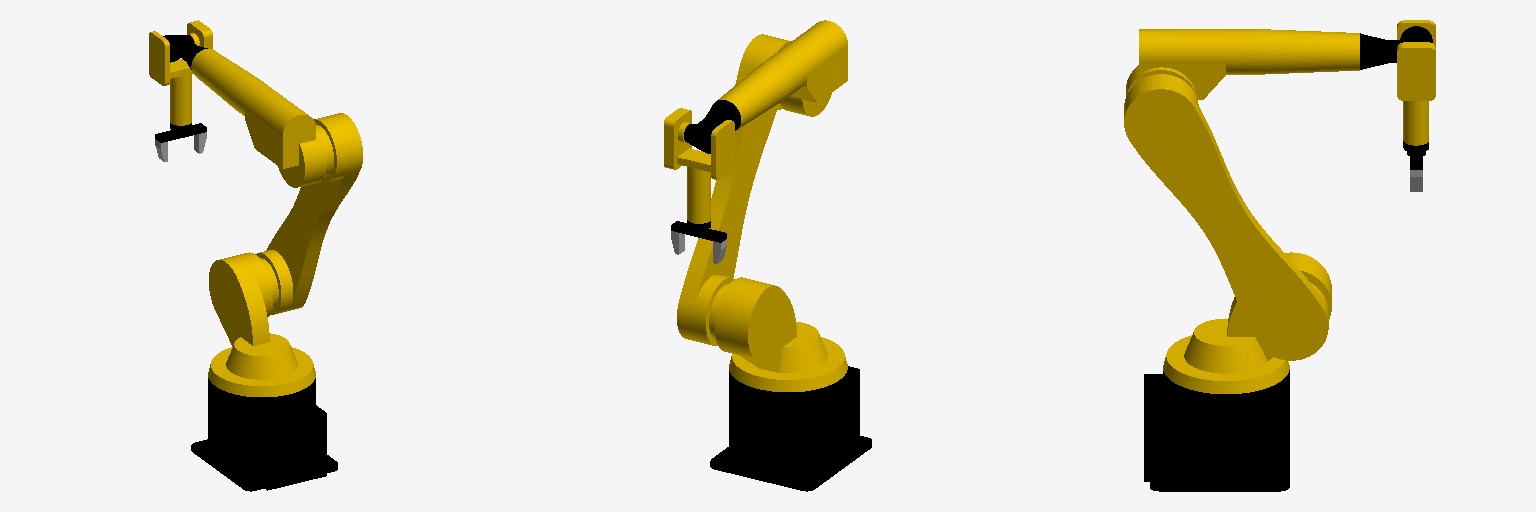
The robot description file, URDF, robot "majager":
<?xml version="1.0" ?>
<!-- =================================================================================== -->
<!-- |    This document was autogenerated by xacro from majager.xacro                  | -->
<!-- |    EDITING THIS FILE BY HAND IS NOT RECOMMENDED                                 | -->
<!-- =================================================================================== -->
<robot name="majager">
  <material name="silver">
    <color rgba="0.700 0.700 0.700 1.000"/>
  </material>
  <material name="Yellow">
    <color rgba="0.93 0.76 0.0 1.0"/>
  </material>
  <material name="Grey">
    <color rgba="0.7 0.7 0.7 1.0"/>
  </material>
  <material name="Black">
    <color rgba="0.0 0.0 0.0 1.0"/>
  </material>
  <gazebo>
    <plugin filename="libgazebo_ros_control.so" name="gazebo_ros_control">
      <robotSimType>gazebo_ros_control/DefaultRobotHWSim</robotSimType>
      <robotNamespace>/majager</robotNamespace>
      <robotParam>robot_description</robotParam>
      <legacyModeNS>true</legacyModeNS>
    </plugin>
  </gazebo>
  <gazebo reference="base_link">
    <material>Gazebo/Silver</material>
    <mu1>0.2</mu1>
    <mu2>0.2</mu2>
    <selfCollide>true</selfCollide>
    <gravity>true</gravity>
  </gazebo>
  <gazebo reference="Link1_1">
    <material>Gazebo/Silver</material>
    <mu1>0.2</mu1>
    <mu2>0.2</mu2>
    <selfCollide>true</selfCollide>
  </gazebo>
  <gazebo reference="Link2_1">
    <material>Gazebo/Silver</material>
    <mu1>0.2</mu1>
    <mu2>0.2</mu2>
    <selfCollide>true</selfCollide>
  </gazebo>
  <gazebo reference="Link3_1">
    <material>Gazebo/Silver</material>
    <mu1>0.2</mu1>
    <mu2>0.2</mu2>
    <selfCollide>true</selfCollide>
  </gazebo>
  <gazebo reference="Link4_1">
    <material>Gazebo/Silver</material>
    <mu1>0.2</mu1>
    <mu2>0.2</mu2>
    <selfCollide>true</selfCollide>
  </gazebo>
  <gazebo reference="Link5_1">
    <material>Gazebo/Silver</material>
    <mu1>0.2</mu1>
    <mu2>0.2</mu2>
    <selfCollide>true</selfCollide>
  </gazebo>
  <gazebo reference="Link6_1">
    <material>Gazebo/Silver</material>
    <mu1>0.2</mu1>
    <mu2>0.2</mu2>
    <selfCollide>true</selfCollide>
  </gazebo>
  <gazebo reference="Base_Gripper_1">
    <material>Gazebo/Silver</material>
    <mu1>0.2</mu1>
    <mu2>0.2</mu2>
    <selfCollide>true</selfCollide>
  </gazebo>
  <gazebo reference="Gripper_Left_1">
    <material>Gazebo/White</material>
    <mu1>1.0</mu1>
    <mu2>1.0</mu2>
    <kp>1000000.0</kp>
    <kd>1.0</kd>
    <minDepth>0.001</minDepth>
    <!--maxVel>0.1</maxVel>
  <fdir1>1 0 0</fdir1-->
  </gazebo>
  <gazebo reference="Gripper_Right_1">
    <material>Gazebo/White</material>
    <mu1>1.0</mu1>
    <mu2>1.0</mu2>
    <kp>1000000.0</kp>
    <kd>1.0</kd>
    <minDepth>0.001</minDepth>
    <!--maxVel>0.1</maxVel>
  <fdir1>1 0 0</fdir1-->
  </gazebo>
  <!-- World frame (for Gazebo) -->
  <link name="world"/>
  <!-- Arm fixed to world frame  -->
  <joint name="world__base_link" type="fixed">
    <parent link="world"/>
    <child link="base_link"/>
    <origin rpy="0 0 0" xyz="0 0 0"/>
  </joint>
  <link name="base_link">
    <inertial>
      <mass value="351.2471728207797"/>
      <origin rpy="0 0 0" xyz="-7.089415568373423e-17 -0.022734689380917134 0.15849931820776944"/>
      <inertia ixx="7.803246" ixy="0" ixz="0" iyy="6.469342" iyz="0" izz="7.933037"/>
    </inertial>
    <collision>
      <origin rpy="0 0 0" xyz="0 0 0"/>
      <geometry>
        <mesh filename="package://majager_description/meshes/base_link.stl" scale="0.001 0.001 0.001"/>
      </geometry>
    </collision>
    <visual>
      <origin rpy="0 0 0" xyz="0 0 0"/>
      <geometry>
        <mesh filename="package://majager_description/meshes/base_link.stl" scale="0.001 0.001 0.001"/>
      </geometry>
      <material name="Black"/>
    </visual>
  </link>
  <joint name="Base_to_Link1" type="continuous">
    <axis xyz="-0.0 -0.0 1.0"/>
    <limit effort="100" velocity="100"/>
    <origin rpy="0 0 0" xyz="0.0 0.0 0.33"/>
    <parent link="base_link"/>
    <child link="Link1_1"/>
  </joint>
  <transmission name="Base_to_Link1_tran">
    <type>transmission_interface/SimpleTransmission</type>
    <joint name="Base_to_Link1">
      <hardwareInterface>hardware_interface/PositionJointInterface</hardwareInterface>
    </joint>
    <actuator name="Base_to_Link1_actr">
      <hardwareInterface>hardware_interface/PositionJointInterface</hardwareInterface>
      <mechanicalReduction>1</mechanicalReduction>
    </actuator>
  </transmission>
  <link name="Link1_1">
    <inertial>
      <mass value="5.52547968640361"/>
      <origin rpy="0 0 0" xyz="0.010990144273109063 0.0882068365110577 0.13577480191631508"/>
      <inertia ixx="3.160703" ixy="-0.14808" ixz="-0.151302" iyy="1.945221" iyz="-1.098862" izz="2.215367"/>
    </inertial>
    <collision>
      <origin rpy="0 0 0" xyz="0.0 0.0 -0.33"/>
      <geometry>
        <mesh filename="package://majager_description/meshes/Link1_1.stl" scale="0.001 0.001 0.001"/>
      </geometry>
    </collision>
    <visual>
      <origin rpy="0 0 0" xyz="0.0 0.0 -0.33"/>
      <geometry>
        <mesh filename="package://majager_description/meshes/Link1_1.stl" scale="0.001 0.001 0.001"/>
      </geometry>
      <material name="Yellow"/>
    </visual>
  </link>
  <joint name="Link1_to_Link2" type="revolute">
    <axis xyz="1.0 0.0 0.0"/>
    <limit effort="100" lower="-3.3161255" upper="1.3963" velocity="100"/>
    <origin rpy="0.5235987756 0 0" xyz="0.09 0.2 0.25"/>
    <parent link="Link1_1"/>
    <child link="Link2_1"/>
  </joint>
  <transmission name="Link1_to_Link2_tran">
    <type>transmission_interface/SimpleTransmission</type>
    <joint name="Link1_to_Link2">
      <hardwareInterface>hardware_interface/PositionJointInterface</hardwareInterface>
    </joint>
    <actuator name="Link1_to_Link2_actr">
      <hardwareInterface>hardware_interface/PositionJointInterface</hardwareInterface>
      <mechanicalReduction>1</mechanicalReduction>
    </actuator>
  </transmission>
  <link name="Link2_1">
    <inertial>
      <mass value="5.82400607636134"/>
      <origin rpy="0 0 0" xyz="0.0953874109671839 -1.1102230246251565e-14 0.3999420840487563"/>
      <inertia ixx="16.907224" ixy="0" ixz="0" iyy="16.692266" iyz="0" izz="0.659521"/>
    </inertial>
    <collision>
      <origin rpy="0 0 0" xyz="-0.09 -0.2 -0.58"/>
      <geometry>
        <mesh filename="package://majager_description/meshes/Link2_1.stl" scale="0.001 0.001 0.001"/>
      </geometry>
    </collision>
    <visual>
      <origin rpy="0 0 0" xyz="-0.09 -0.2 -0.58"/>
      <geometry>
        <mesh filename="package://majager_description/meshes/Link2_1.stl" scale="0.001 0.001 0.001"/>
      </geometry>
      <material name="Yellow"/>
    </visual>
  </link>
  <joint name="Link2_to_Link3" type="revolute">
    <axis xyz="1.0 -0.0 0.0"/>
    <limit effort="100" lower="-0.7" upper="4.2" velocity="100"/>
    <origin rpy="-0.5235987756 0 0" xyz="0.0 0.0 0.8"/>
    <parent link="Link2_1"/>
    <child link="Link3_1"/>
  </joint>
  <transmission name="Link2_to_Link3_tran">
    <type>transmission_interface/SimpleTransmission</type>
    <joint name="Link2_to_Link3">
      <hardwareInterface>hardware_interface/PositionJointInterface</hardwareInterface>
    </joint>
    <actuator name="Link2_to_Link3_actr">
      <hardwareInterface>hardware_interface/PositionJointInterface</hardwareInterface>
      <mechanicalReduction>1</mechanicalReduction>
    </actuator>
  </transmission>
  <link name="Link3_1">
    <inertial>
      <mass value="2.14016041688751"/>
      <origin rpy="0 0 0" xyz="-0.08225410153755812 0.09831042517527713 0.08665205846011848"/>
      <inertia ixx="4.813544" ixy="0.160871" ixz="0.096164" iyy="0.718651" iyz="-0.721581" izz="4.447232"/>
    </inertial>
    <collision>
      <origin rpy="0 0 0" xyz="-0.09 -0.2 -1.38"/>
      <geometry>
        <mesh filename="package://majager_description/meshes/Link3_1.stl" scale="0.001 0.001 0.001"/>
      </geometry>
    </collision>
    <visual>
      <origin rpy="0 0 0" xyz="-0.09 -0.2 -1.38"/>
      <geometry>
        <mesh filename="package://majager_description/meshes/Link3_1.stl" scale="0.001 0.001 0.001"/>
      </geometry>
      <material name="Yellow"/>
    </visual>
  </link>
  <joint name="Link3_to_Link4" type="continuous">
    <axis xyz="0.0 1.0 0.0"/>
    <limit effort="100" velocity="100"/>
    <origin rpy="0 0 0" xyz="-0.09 0.35 0.13"/>
    <parent link="Link3_1"/>
    <child link="Link4_1"/>
  </joint>
  <transmission name="Link3_to_Link4_tran">
    <type>transmission_interface/SimpleTransmission</type>
    <joint name="Link3_to_Link4">
      <hardwareInterface>hardware_interface/PositionJointInterface</hardwareInterface>
    </joint>
    <actuator name="Link3_to_Link4_actr">
      <hardwareInterface>hardware_interface/PositionJointInterface</hardwareInterface>
      <mechanicalReduction>1</mechanicalReduction>
    </actuator>
  </transmission>
  <link name="Link4_1">
    <inertial>
      <mass value="2.036896395207224"/>
      <origin rpy="0 0 0" xyz="-0.01381923652259904 0.1126422845962809 1.5576813499063036e-06"/>
      <inertia ixx="0.061572" ixy="0.010471" ixz="-0.0" iyy="0.018205" iyz="-1e-06" izz="0.067201"/>
    </inertial>
    <collision>
      <origin rpy="0 0 0" xyz="-0.0 -0.55 -1.51"/>
      <geometry>
        <mesh filename="package://majager_description/meshes/Link4_1.stl" scale="0.001 0.001 0.001"/>
      </geometry>
    </collision>
    <visual>
      <origin rpy="0 0 0" xyz="-0.0 -0.55 -1.51"/>
      <geometry>
        <mesh filename="package://majager_description/meshes/Link4_1.stl" scale="0.001 0.001 0.001"/>
      </geometry>
      <material name="Black"/>
    </visual>
  </link>
  <joint name="Link4_to_Link5" type="revolute">
    <axis xyz="1.0 -0.0 0.0"/>
    <limit effort="100" lower="-0.87266" upper="4.01426" velocity="100"/>
    <origin rpy="0 0 0" xyz="-0.085 0.415 0.0"/>
    <parent link="Link4_1"/>
    <child link="Link5_1"/>
  </joint>
  <transmission name="Link4_to_Link5_tran">
    <type>transmission_interface/SimpleTransmission</type>
    <joint name="Link4_to_Link5">
      <hardwareInterface>hardware_interface/PositionJointInterface</hardwareInterface>
    </joint>
    <actuator name="Link4_to_Link5_actr">
      <hardwareInterface>hardware_interface/PositionJointInterface</hardwareInterface>
      <mechanicalReduction>1</mechanicalReduction>
    </actuator>
  </transmission>
  <link name="Link5_1">
    <inertial>
      <mass value="1.83303077561953"/>
      <origin rpy="0 0 0" xyz="-0.02715869025322588 -5.218048215738236e-15 -0.08759357763589937"/>
      <inertia ixx="0.167562" ixy="0" ixz="-0.016099" iyy="0.227483" iyz="0" izz="0.091889"/>
    </inertial>
    <collision>
      <origin rpy="0 0 0" xyz="0.085 -0.965 -1.51"/>
      <geometry>
        <mesh filename="package://majager_description/meshes/Link5_1.stl" scale="0.001 0.001 0.001"/>
      </geometry>
    </collision>
    <visual>
      <origin rpy="0 0 0" xyz="0.085 -0.965 -1.51"/>
      <geometry>
        <mesh filename="package://majager_description/meshes/Link5_1.stl" scale="0.001 0.001 0.001"/>
      </geometry>
      <material name="Yellow"/>
    </visual>
  </link>
  <joint name="Link5_to_Link6" type="prismatic">
    <axis xyz="0.0 -0.0 -1.0"/>
    <limit effort="100" lower="0.0" upper="0.3" velocity="100"/>
    <origin rpy="0 0 0" xyz="0.085 0.0 -0.25"/>
    <parent link="Link5_1"/>
    <child link="Link6_1"/>
  </joint>
  <transmission name="Link5_to_Link6_tran">
    <type>transmission_interface/SimpleTransmission</type>
    <joint name="Link5_to_Link6">
      <hardwareInterface>hardware_interface/PositionJointInterface</hardwareInterface>
    </joint>
    <actuator name="Link5_to_Link6_actr">
      <hardwareInterface>hardware_interface/PositionJointInterface</hardwareInterface>
      <mechanicalReduction>1</mechanicalReduction>
    </actuator>
  </transmission>
  <link name="Link6_1">
    <inertial>
      <mass value="1.9701696869512575"/>
      <origin rpy="0 0 0" xyz="-1.462357275260921e-16 -8.215650382226158e-15 -0.10789050337311945"/>
      <inertia ixx="0.009725" ixy="0" ixz="0.0" iyy="0.009725" iyz="0" izz="0.001313"/>
    </inertial>
    <collision>
      <origin rpy="0 0 0" xyz="0.0 -0.965 -1.26"/>
      <geometry>
        <mesh filename="package://majager_description/meshes/Link6_1.stl" scale="0.001 0.001 0.001"/>
      </geometry>
    </collision>
    <visual>
      <origin rpy="0 0 0" xyz="0.0 -0.965 -1.26"/>
      <geometry>
        <mesh filename="package://majager_description/meshes/Link6_1.stl" scale="0.001 0.001 0.001"/>
      </geometry>
      <material name="Black"/>
    </visual>
  </link>
  <joint name="Link6_to_Base_Gripper" type="continuous">
    <axis xyz="-0.0 -0.0 -1.0"/>
    <limit effort="100" velocity="100"/>
    <origin rpy="0 0 0" xyz="0.0 0.0 -0.03"/>
    <parent link="Link6_1"/>
    <child link="Base_Gripper_1"/>
  </joint>
  <transmission name="Link6_to_Base_Gripper_tran">
    <type>transmission_interface/SimpleTransmission</type>
    <joint name="Link6_to_Base_Gripper">
      <hardwareInterface>hardware_interface/PositionJointInterface</hardwareInterface>
    </joint>
    <actuator name="Link6_to_Base_Gripper_actr">
      <hardwareInterface>hardware_interface/PositionJointInterface</hardwareInterface>
      <mechanicalReduction>1</mechanicalReduction>
    </actuator>
  </transmission>
  <link name="Base_Gripper_1">
    <inertial>
      <mass value="1.1700579922254057"/>
      <origin rpy="0 0 0" xyz="-1.309810703716444e-16 -8.215650382226158e-15 -0.014382845951966372"/>
      <inertia ixx="0.000268" ixy="0" ixz="0" iyy="0.003233" iyz="0" izz="1"/>
    </inertial>
    <collision>
      <origin rpy="0 0 0" xyz="0.0 -0.965 -1.23"/>
      <geometry>
        <mesh filename="package://majager_description/meshes/Base_Gripper_1.stl" scale="0.001 0.001 0.001"/>
      </geometry>
    </collision>
    <visual>
      <origin rpy="0 0 0" xyz="0.0 -0.965 -1.23"/>
      <geometry>
        <mesh filename="package://majager_description/meshes/Base_Gripper_1.stl" scale="0.001 0.001 0.001"/>
      </geometry>
      <material name="Black"/>
    </visual>
  </link>

  <joint name="Base_Gripper_to_Gripper_Right" type="fixed">
      <origin rpy="0 0 0" xyz="-0.06 0.0 -0.0225"/>
      <parent link="Base_Gripper_1"/>
      <child link="Gripper_Right_1"/>
  </joint>

  <transmission name="Base_Gripper_to_Gripper_Right_tran">
      <type>transmission_interface/SimpleTransmission</type>
  </transmission>

  <link name="Gripper_Right_1">
    <inertial>
      <mass value="0.6554750004678966"/>
      <origin rpy="0 0 0" xyz="0.012095808747128123 -2.786659791809143e-14 -0.03856287422397031"/>
      <inertia ixx="0.00044" ixy="-0.0" ixz="3e-05" iyy="0.000397" iyz="-0.0" izz="0.000125"/>
    </inertial>
    <collision>
      <origin rpy="0 0 0" xyz="0.09 -0.965 -1.2075"/>
      <geometry>
        <mesh filename="package://majager_description/meshes/Gripper_Right_1.stl" scale="0.001 0.001 0.001"/>
      </geometry>
    </collision>
    <visual>
      <origin rpy="0 0 0" xyz="0.06 -0.965 -1.2075"/>
      <geometry>
        <mesh filename="package://majager_description/meshes/Gripper_Right_1.stl" scale="0.001 0.001 0.001"/>
      </geometry>
      <material name="Grey"/>
    </visual>
  </link>

  <joint name="Base_Gripper_to_Gripper_Left" type="fixed">
      <origin rpy="0 0 0" xyz="0.09 0.0 -0.0225"/>
      <parent link="Base_Gripper_1"/>
      <child link="Gripper_Left_1"/>
  </joint>

  <transmission name="Base_Gripper_to_Gripper_Left_tran">
      <type>transmission_interface/SimpleTransmission</type>
  </transmission>

  <link name="Gripper_Left_1">
    <inertial>
      <mass value="0.6554750004678964"/>
      <origin rpy="0 0 0" xyz="-0.012095808747128373 8.992806499463768e-15 -0.03856287422397009"/>
      <inertia ixx="0.00044" ixy="0" ixz="-3e-05" iyy="0.000397" iyz="0" izz="0.000125"/>
    </inertial>
    <collision>
      <origin rpy="0 0 0" xyz="-0.09 -0.965 -1.2075"/>
      <geometry>
        <mesh filename="package://majager_description/meshes/Gripper_Left_1.stl" scale="0.001 0.001 0.001"/>
      </geometry>
    </collision>
    <visual>
      <origin rpy="0 0 0" xyz="-0.09 -0.965 -1.2075"/>
      <geometry>
        <mesh filename="package://majager_description/meshes/Gripper_Left_1.stl" scale="0.001 0.001 0.001"/>
      </geometry>
      <material name="Grey"/>
    </visual>
  </link>
</robot>

--- Render facts (derived) ---
The picture shows the robot from 3 angles, left to right: view 1: azimuth 30°, elevation 25°; view 2: azimuth 150°, elevation 25°; view 3: azimuth 270°, elevation 25°; orthographic projection.
Robot: majager — 11 links, 10 joints (3 revolute, 3 continuous, 1 prismatic, 3 fixed); root link world; default pose: every joint at zero.
Links seen in each view (by area): view 1: base_link, Link1_1, Link2_1, Link3_1, Link5_1, Link4_1; view 2: base_link, Link1_1, Link2_1, Link3_1, Link5_1, Link4_1; view 3: Link2_1, base_link, Link3_1, Link1_1, Link5_1, Link4_1.
Boxes of the visible links, <box> form: base_link: <box>191,378,337,491</box>; Link1_1: <box>208,252,315,396</box>; Link2_1: <box>255,113,362,314</box>; Link3_1: <box>191,49,326,187</box>; Link5_1: <box>149,20,212,125</box>; Link4_1: <box>163,35,207,69</box>; base_link: <box>710,366,871,491</box>; Link1_1: <box>715,277,847,391</box>; Link2_1: <box>677,34,791,345</box>; Link3_1: <box>717,20,847,128</box>; Link5_1: <box>664,108,734,223</box>; Link4_1: <box>684,100,740,153</box>; Link2_1: <box>1124,74,1328,360</box>; base_link: <box>1144,370,1289,491</box>; Link3_1: <box>1126,29,1359,99</box>; Link1_1: <box>1163,252,1331,393</box>; Link5_1: <box>1397,20,1435,145</box>; Link4_1: <box>1360,26,1432,69</box>.
Bounding box of the posed robot: 0.435 × 0.96 × 1.47 m (x, y, z).
10 mesh visuals loaded from 10 distinct referenced files (10 binary STL).
